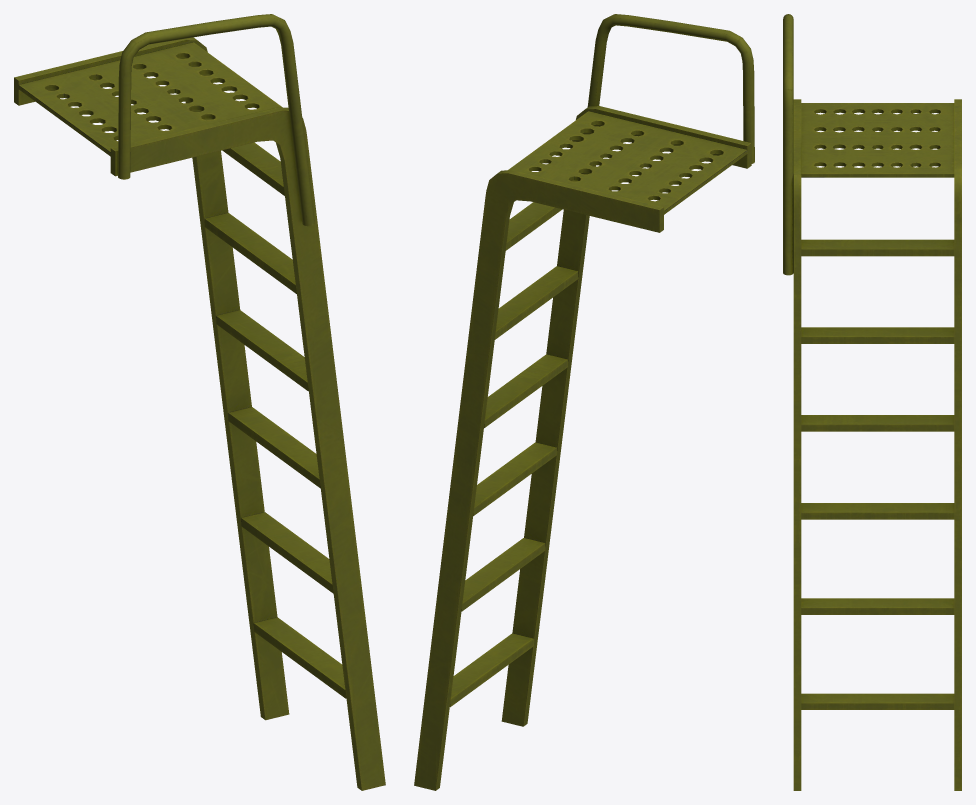
The model's file is yellowladder.fbx.
The picture shows the model from 3 angles, left to right: view 1: azimuth 30°, elevation 25°; view 2: azimuth 150°, elevation 25°; view 3: azimuth 270°, elevation 25°; orthographic projection. The views are drawn at different scales.
Parts seen in each view (by area): view 1: ladder; view 2: ladder; view 3: ladder.
Boxes of the visible parts, <box> form: ladder: <box>14,14,385,790</box>; ladder: <box>414,14,754,790</box>; ladder: <box>783,14,961,790</box>.
Size of the model in its own units: 340 by 977 by 234.
Materials: 1 (1 with a texture image).
